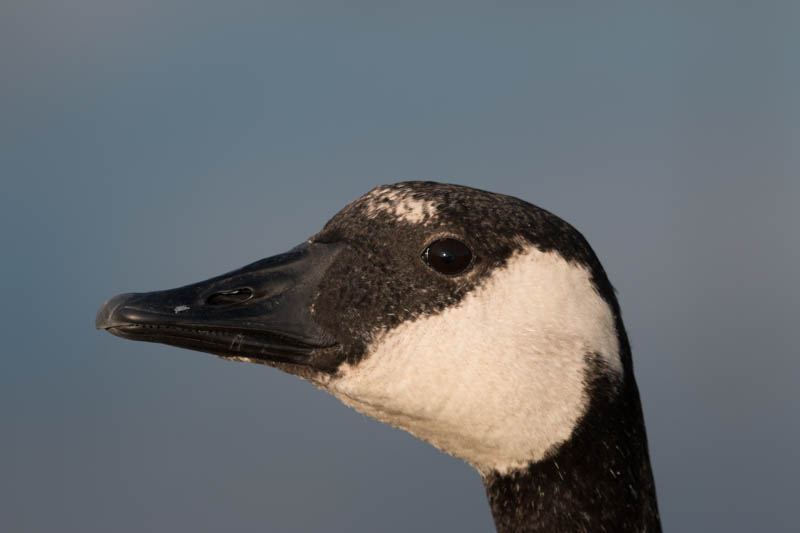goose-head: (95, 181, 634, 476)
